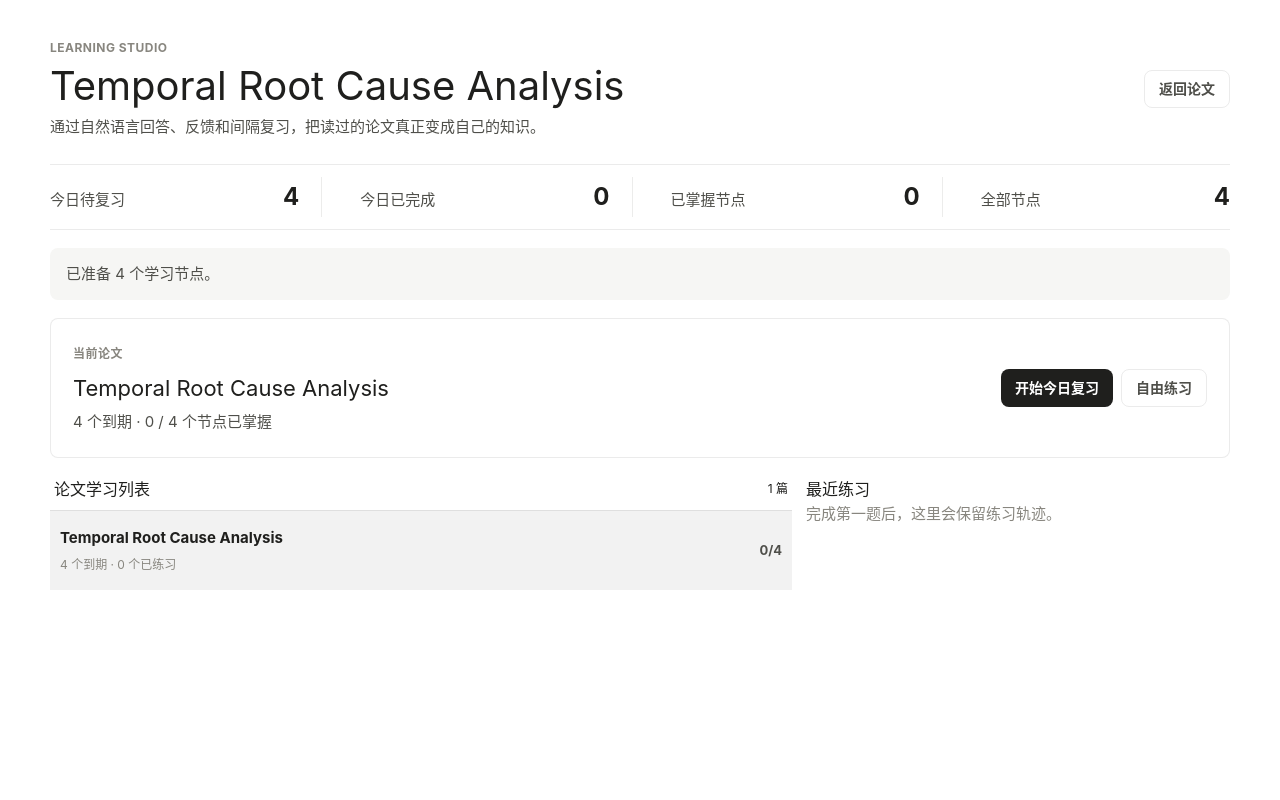
Test case: LearningStudioView › imports a paper and starts a full-width learning session
Expected: the heading "Temporal Root Cause Analysis" below "Learning Studio" is shown, [50, 61, 624, 110]
Click the button "开始今日复习" at (1057, 388), box [1001, 369, 1113, 407]
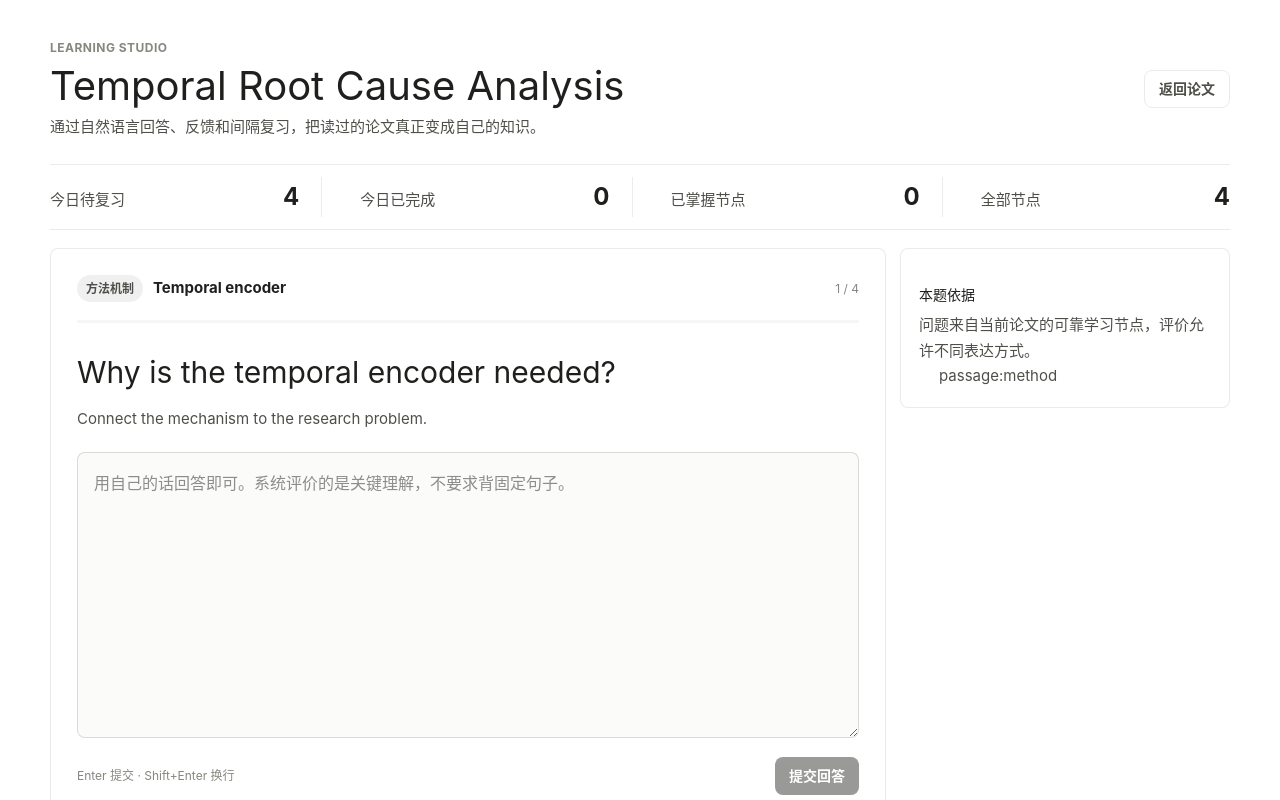
Result: the text "Why is the temporal encoder needed?" is shown at [77, 354, 616, 390]
